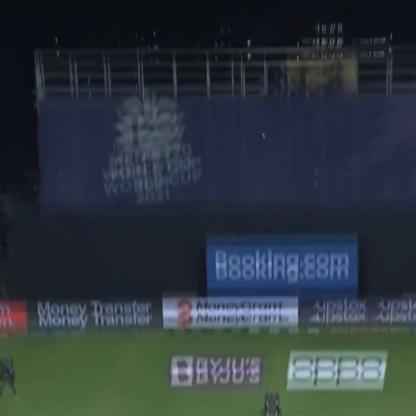ball: (259, 134, 267, 142), (258, 130, 268, 135)
